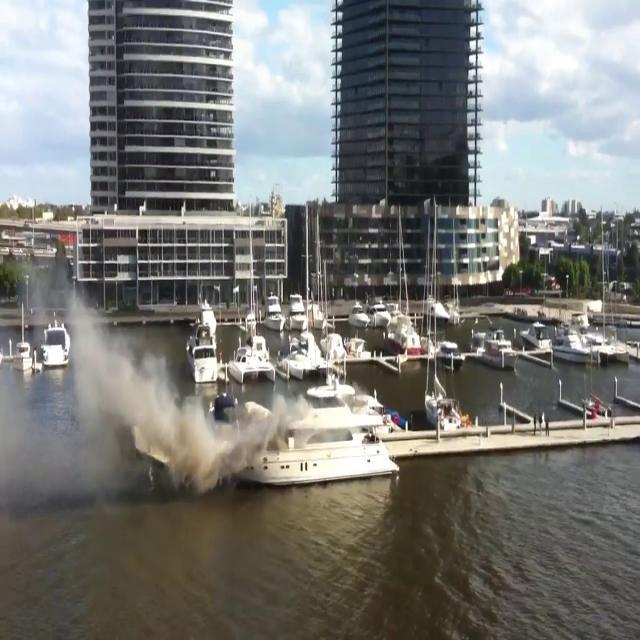Smoke: (0, 272, 219, 501)
